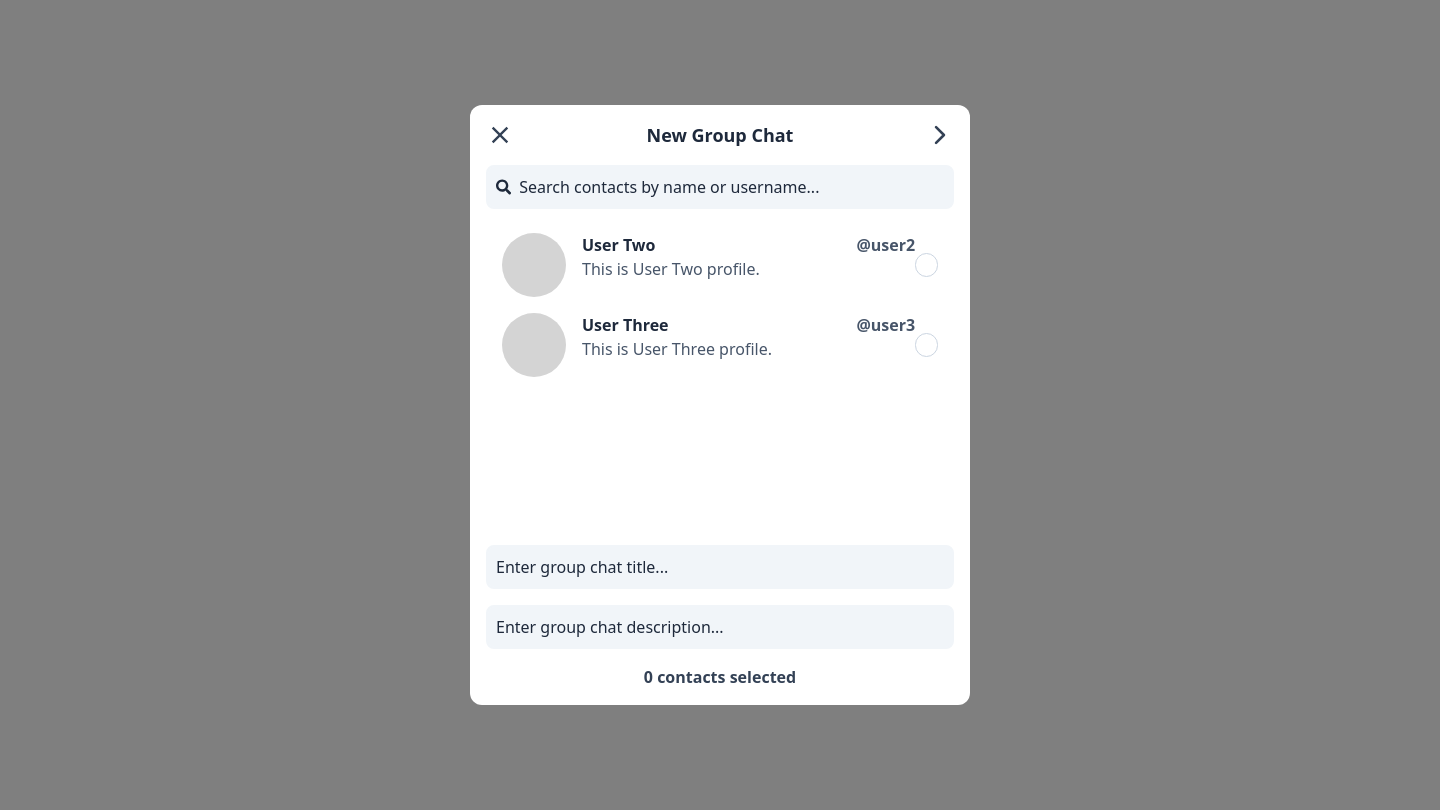
Test case: <NewChatModal /> › Group Chat Modal › prevents starting group chat with only one contact
Click the element showing "User Two @user2 This is User Two profile." at {"x": 720, "y": 265}, box x1=486 y1=225 x2=954 y2=305
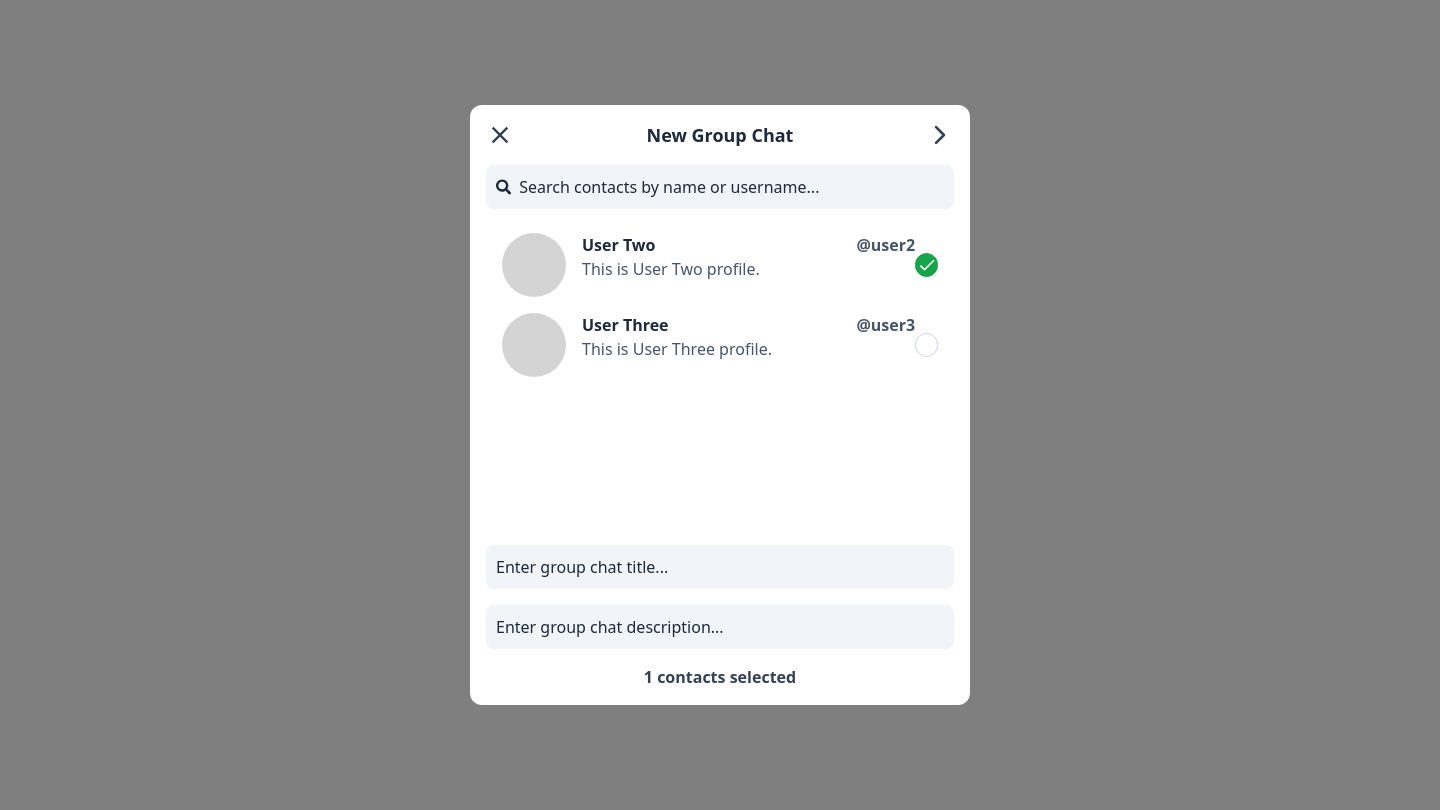
Now the text "1 contacts selected" is shown, box x1=644 y1=666 x2=796 y2=688
Type "Test Group Chat" into the field with test id "group-chat-title-input" at {"x": 720, "y": 567}, box x1=496 y1=555 x2=944 y2=579
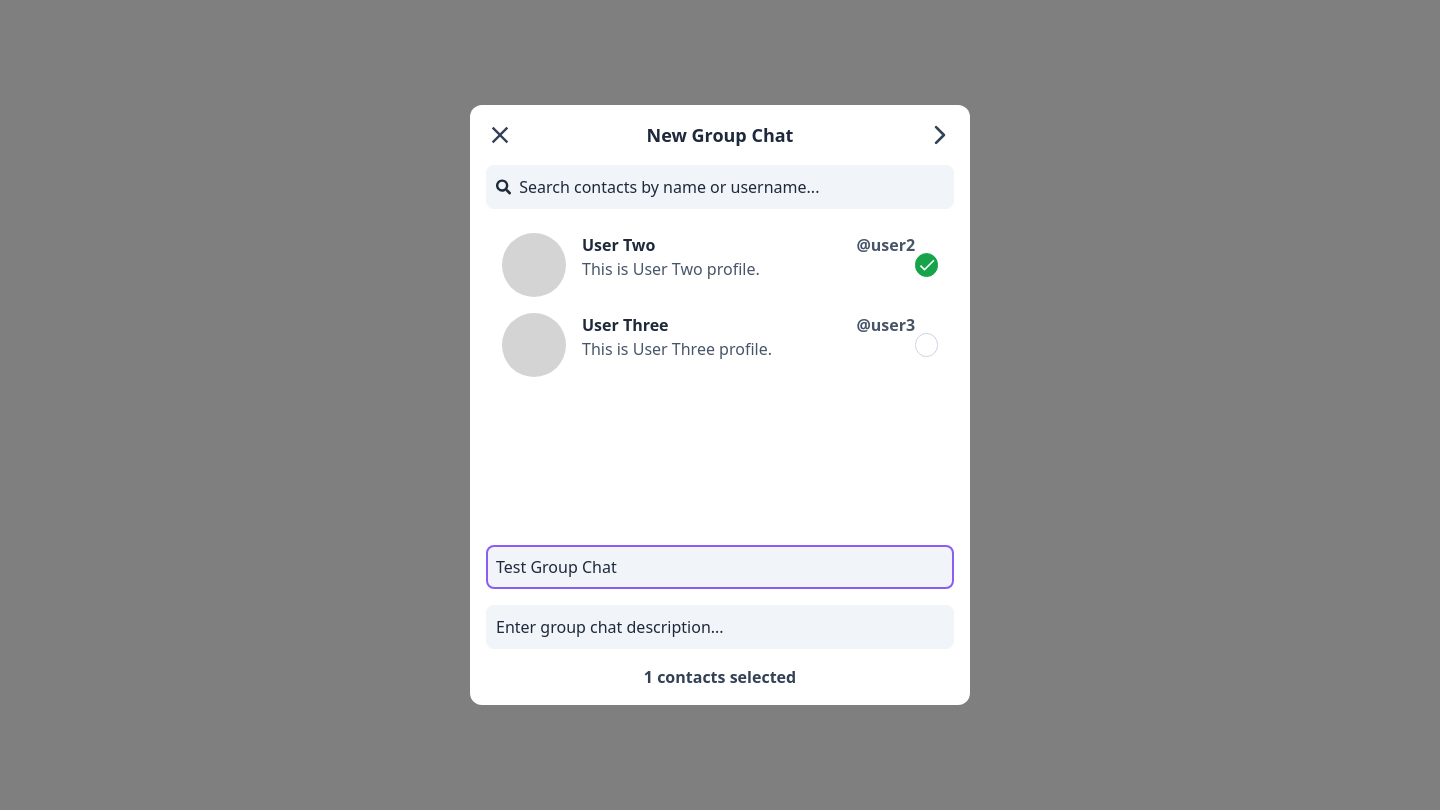
Type "This is a test group chat" into the field with test id "group-chat-description-input" at {"x": 720, "y": 627}, box x1=496 y1=615 x2=944 y2=639
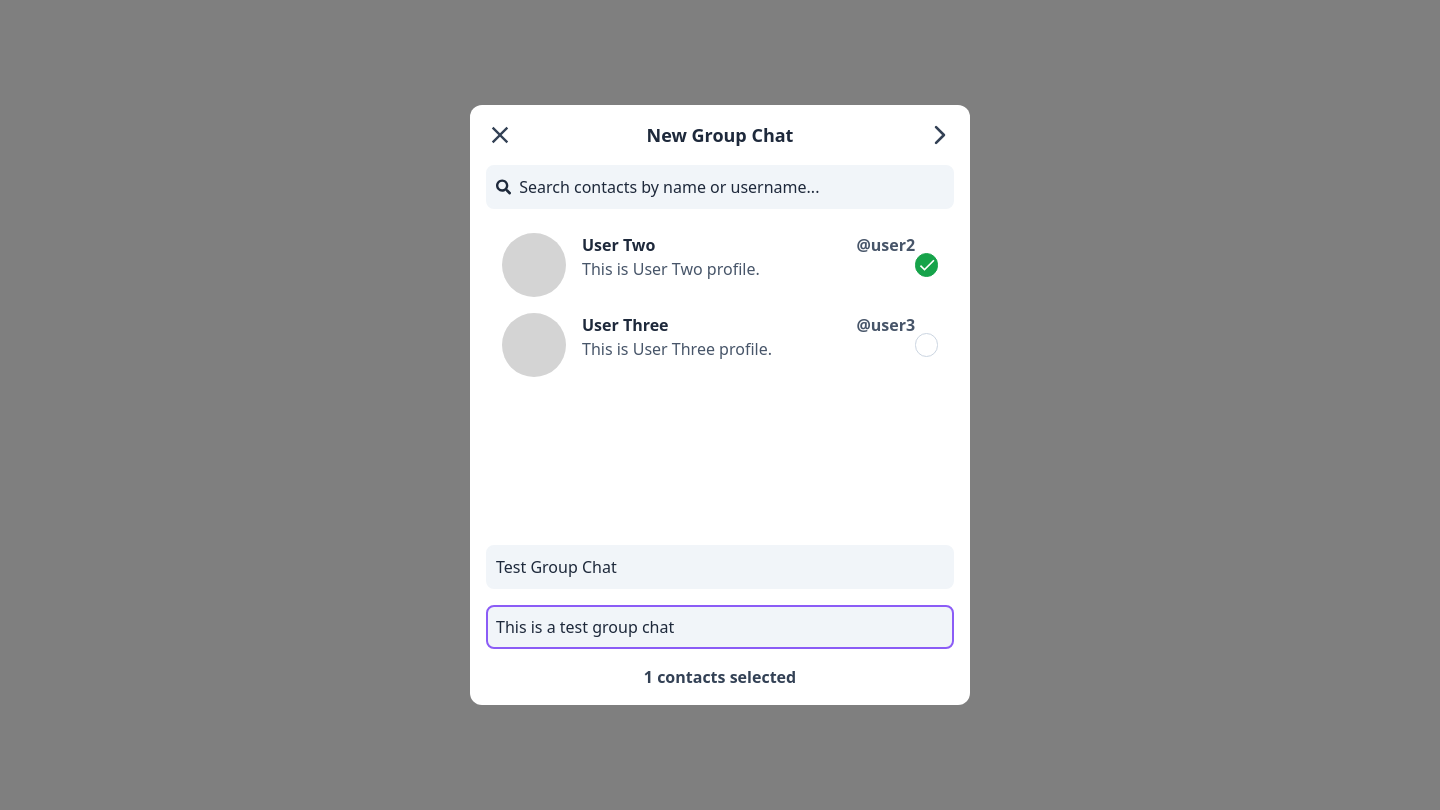
Click the button with test id "start-new-group-chat-button" at {"x": 940, "y": 135}, box x1=926 y1=121 x2=954 y2=149
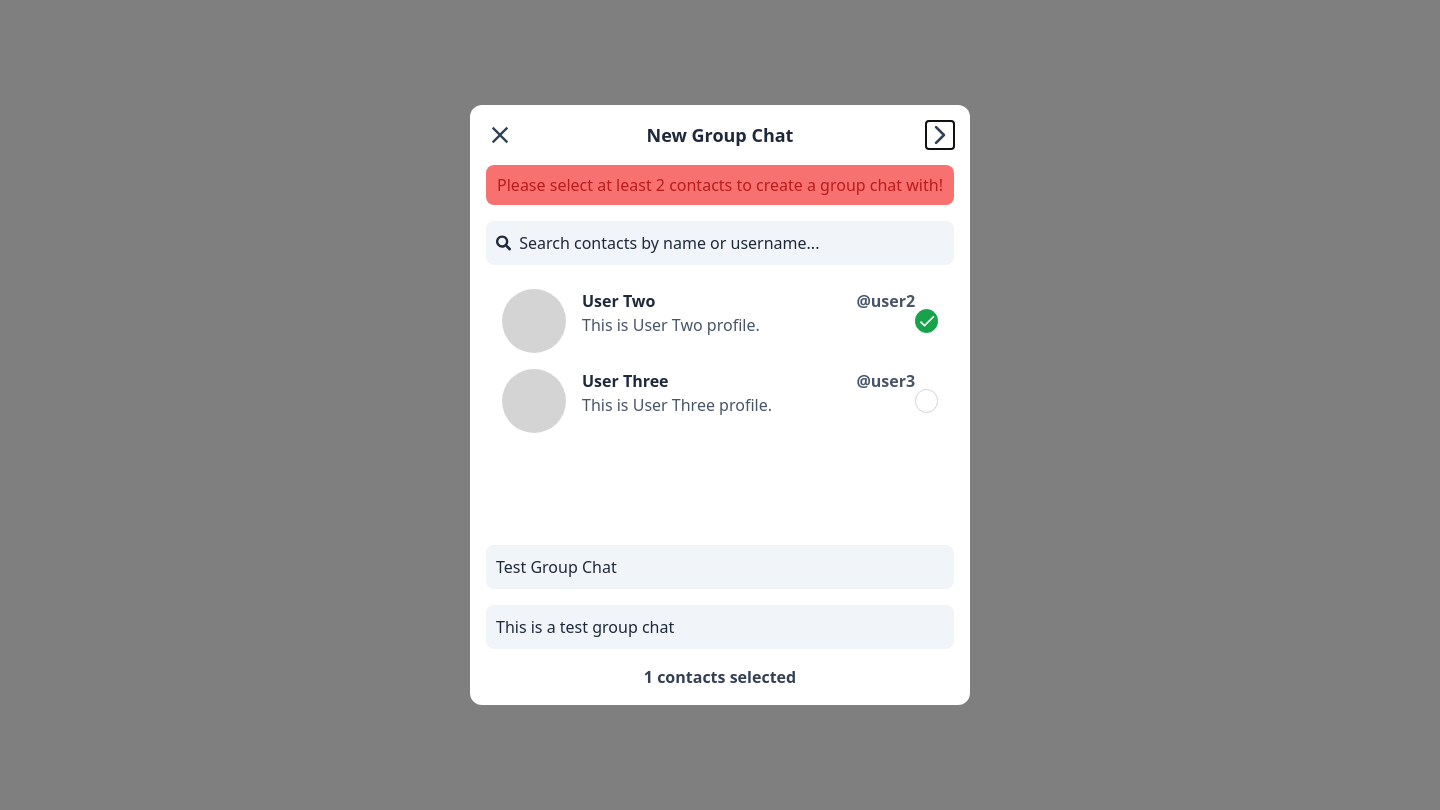
Now the text "Please select at least 2 contacts to create a group chat with!" is shown, box x1=486 y1=165 x2=954 y2=205
